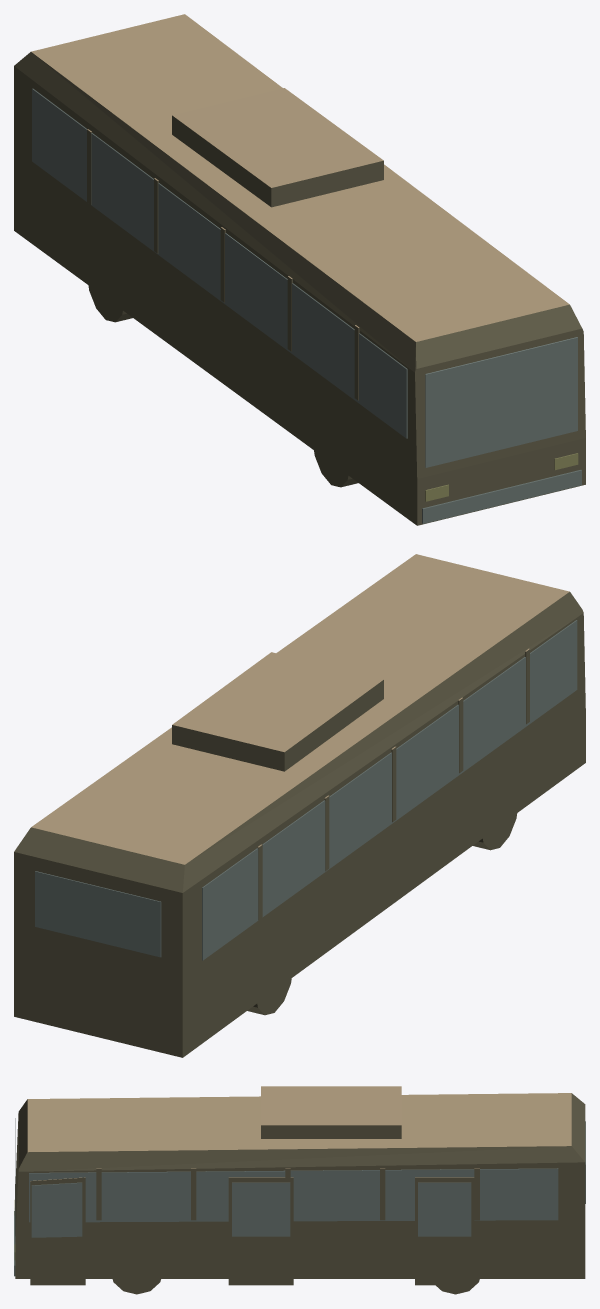
The model's file is SM_Autobus_v3_Accidentado_LOD0.fbx.
3 renders of one model, top to bottom at view 1: azimuth 30°, elevation 25°; view 2: azimuth 150°, elevation 25°; view 3: azimuth 270°, elevation 25°, orthographic. The views are drawn at different scales.
Visible parts, largest first — view 1: SM_autobus_v3_LOD0; view 2: SM_autobus_v3_LOD0; view 3: SM_autobus_v3_LOD0.
Part boxes in pixels (left/top/right/bottom): SM_autobus_v3_LOD0: left=14, top=14, right=585, bottom=525; SM_autobus_v3_LOD0: left=14, top=554, right=585, bottom=1057; SM_autobus_v3_LOD0: left=14, top=1086, right=585, bottom=1294.
Bounding box in the file's own units: 2.61 × 3.26 × 10.59.
